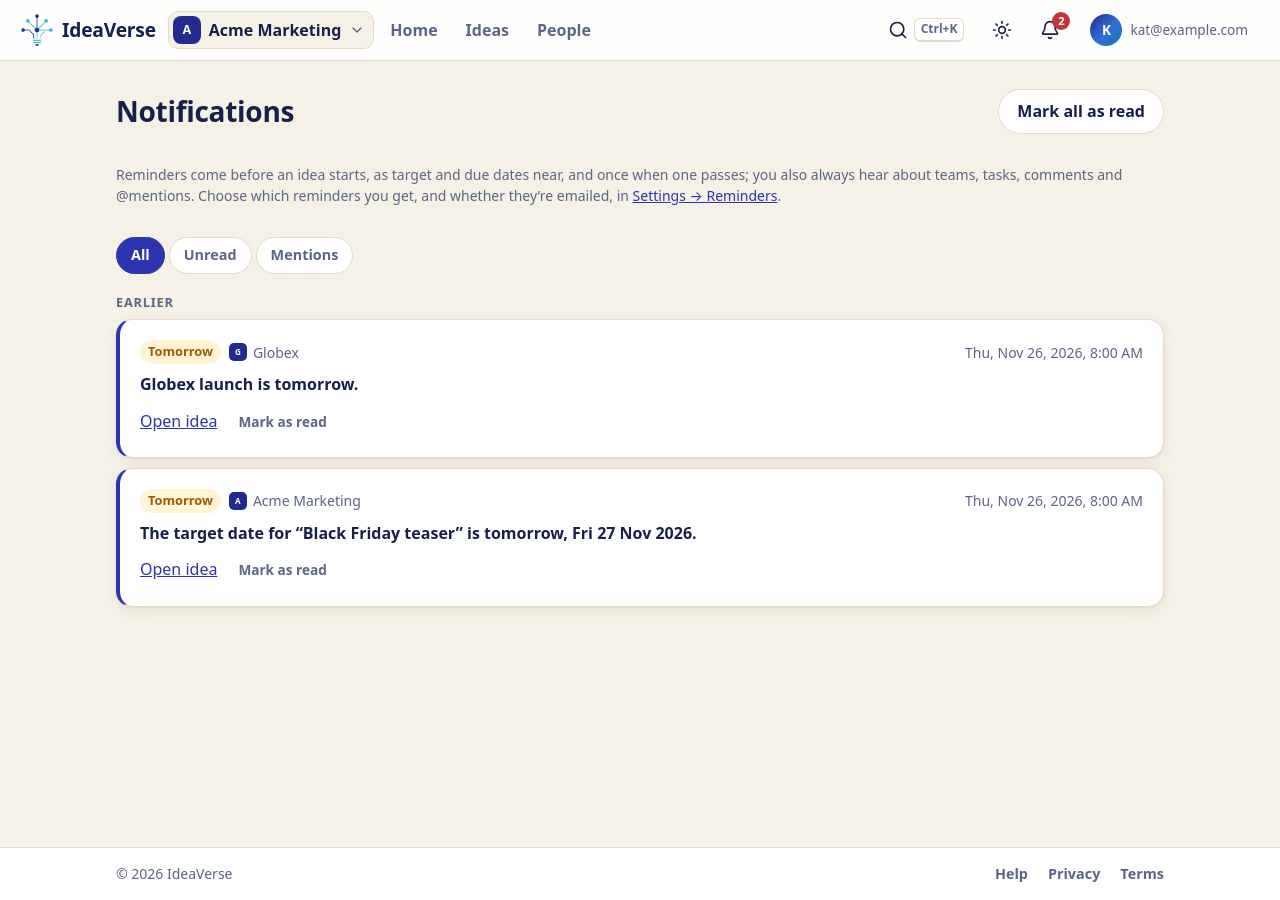
Test: Notifications › names each notification’s workspace for someone in several
expect the 1st list item shows "Globex": met, box [253,342,299,362]
expect the 2nd list item shows "Acme Marketing": met, box [253,491,361,510]
Click the button named "Notifications, 2 unread" at x=1050, y=30, box [1030,10,1070,50]
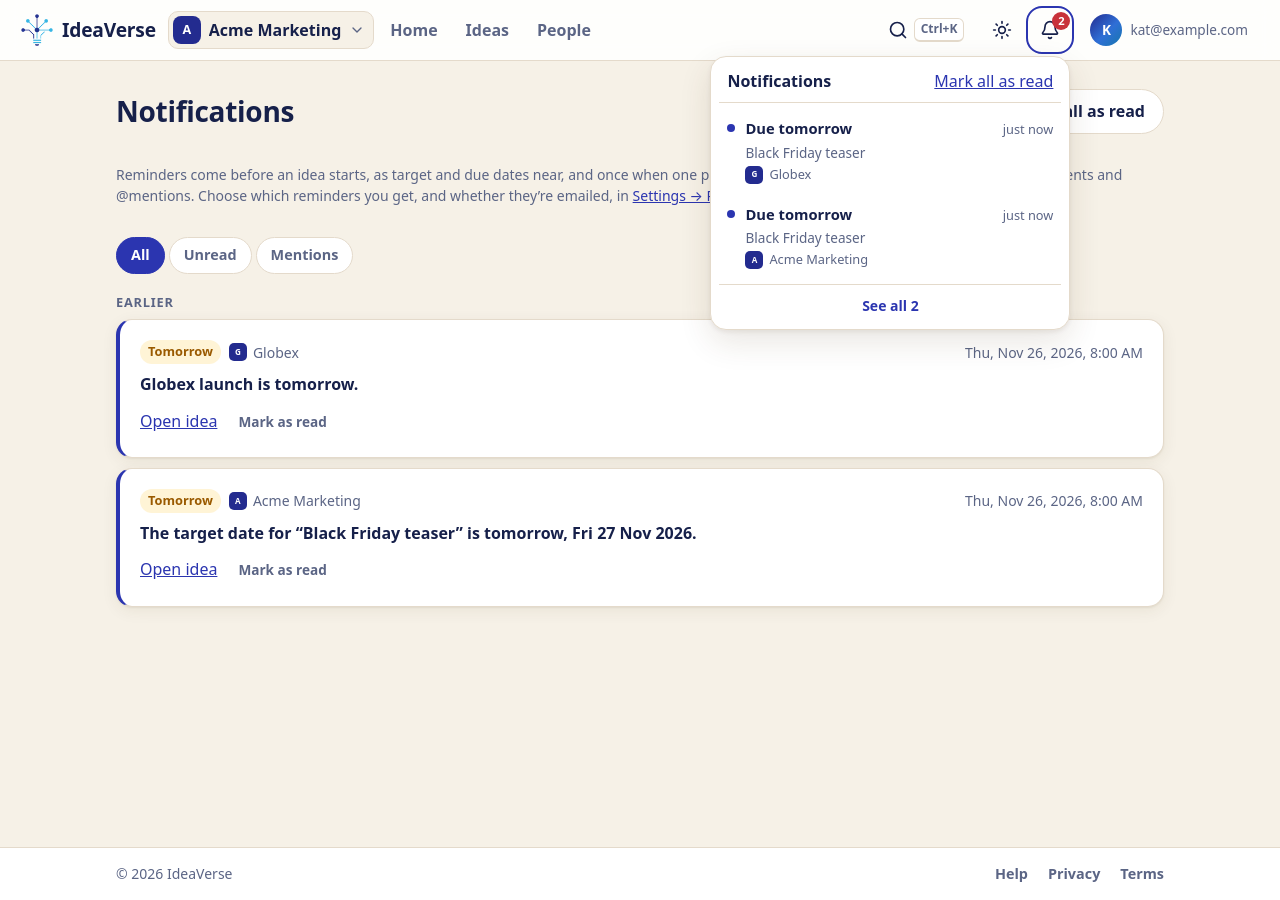
expect the list item "Due tomorrow Black Friday teaser just now G Globex" is shown: met, box [719,109,1061,192]
